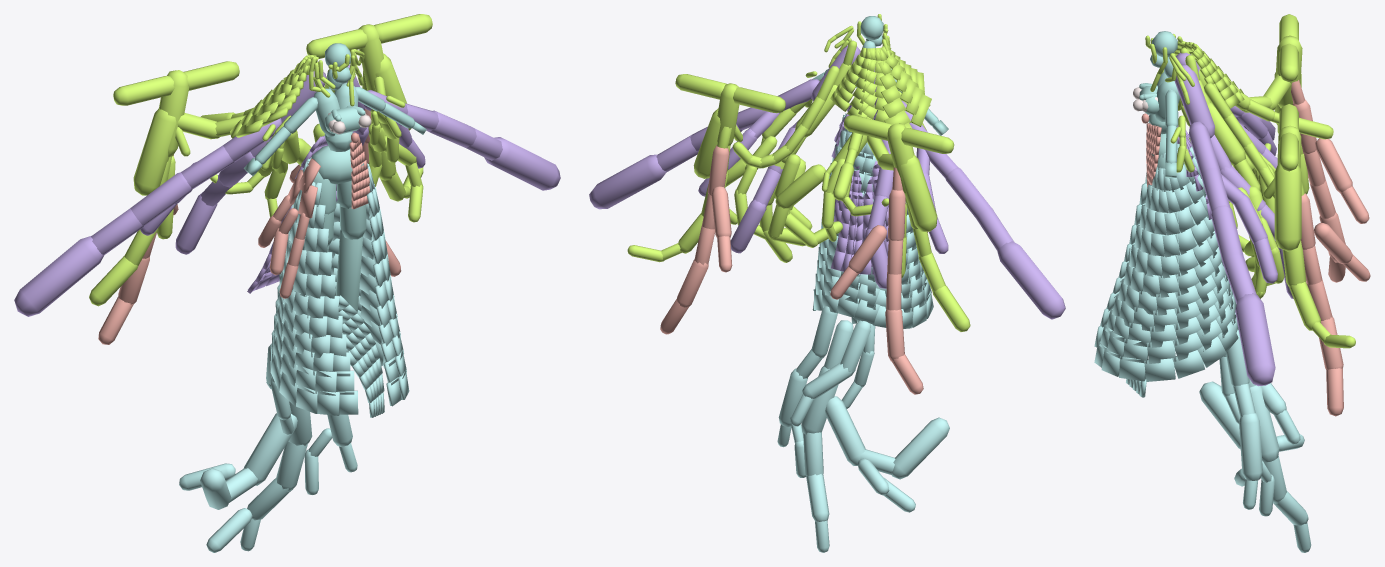
The model's file is HoH.fbx_RigidBodyWorld.fbx.
3 views of the same model, side by side, from view 1: azimuth 30°, elevation 25°; view 2: azimuth 150°, elevation 25°; view 3: azimuth 270°, elevation 25° (orthographic). The views are drawn at different scales.
Parts seen in each view (by area): view 1: 03G_Bone_C2_LV2_RT_05, 03G_Bone_C2_LingDang_R_RT_01, 033_Bone_C2_LV2_LT_PiaoDai_05, 09H_Bone_C2_LV2_Skirt_B_06_R_01, 03E_Bone_C2_LV2_RT_03, 00G_左ひざ, 03H_Bone_C2_ChiBang_RR_01, 03N_Bone_C2_LV2_RD_04, 03F_Bone_C2_LV2_RT_04, 031_Dummy_C2_LingDang_R_Root, 00O_下半身, 040_Bone_C2_ChiBang_LL_01 (+18 smaller); view 2: 03G_Bone_C2_LV2_RT_05, 033_Bone_C2_LV2_LT_PiaoDai_05, 03G_Bone_C2_LingDang_R_RT_01, 09J_Bone_C2_LV2_Skirt_B_06_R_03, 09H_Bone_C2_LV2_Skirt_B_06_R_01, 01U_Bone_C2_Hair_BR_04_L01_01, 03E_Bone_C2_LV2_RT_03, 03A_Bone_C2_LV2_LD_PiaoDai_04, 03Q_Bone_C2_LingDang_L_LT_01, 03H_Bone_C2_ChiBang_RR_01, 041_Bone_C2_ChiBang_LR_01, 09D_Bone_C2_LV2_Skirt_B_06 (+25 smaller); view 3: 033_Bone_C2_LV2_LT_PiaoDai_05, 03Q_Bone_C2_LingDang_L_LT_01, 098_Bone_C2_LV2_Skirt_B_04_L_03, 09J_Bone_C2_LV2_Skirt_B_06_R_03, 02Y_Bone_C2_LV2_L_PiaoDai_Root, 031_Bone_C2_LV2_LT_PiaoDai_03, 09D_Bone_C2_LV2_Skirt_B_06, 03E_Bone_C2_LingDang_R_B_02_01, 02Z_Bone_C2_LV2_LT_PiaoDai_01, 032_Bone_C2_LV2_LT_PiaoDai_04, 01Z_Bone_C2_Hair_BL_03, 03N_Bone_C2_LingDang_L_LD_03 (+69 smaller).
Part boxes in pixels (<box>): 03G_Bone_C2_LV2_RT_05: <box>14,235,103,316</box>; 03G_Bone_C2_LingDang_R_RT_01: <box>133,108,176,195</box>; 033_Bone_C2_LV2_LT_PiaoDai_05: <box>484,137,560,190</box>; 09H_Bone_C2_LV2_Skirt_B_06_R_01: <box>243,413,297,485</box>; 03E_Bone_C2_LV2_RT_03: <box>130,172,192,226</box>; 00G_左ひざ: <box>337,233,363,307</box>; 03H_Bone_C2_ChiBang_RR_01: <box>113,76,174,105</box>; 03N_Bone_C2_LV2_RD_04: <box>175,192,217,254</box>; 03F_Bone_C2_LV2_RT_04: <box>91,208,143,255</box>; 031_Dummy_C2_LingDang_R_Root: <box>159,70,188,156</box>; 00O_下半身: <box>311,145,363,184</box>; 040_Bone_C2_ChiBang_LL_01: <box>374,14,432,43</box>; 03G_Bone_C2_LV2_RT_05: <box>997,241,1065,319</box>; 033_Bone_C2_LV2_LT_PiaoDai_05: <box>589,154,666,209</box>; 03G_Bone_C2_LingDang_R_RT_01: <box>900,154,937,231</box>; 09J_Bone_C2_LV2_Skirt_B_06_R_03: <box>891,417,949,479</box>; 09H_Bone_C2_LV2_Skirt_B_06_R_01: <box>825,396,865,465</box>; 01U_Bone_C2_Hair_BR_04_L01_01: <box>775,164,825,208</box>; 03E_Bone_C2_LV2_RT_03: <box>945,167,992,218</box>; 03A_Bone_C2_LV2_LD_PiaoDai_04: <box>730,199,766,253</box>; 03Q_Bone_C2_LingDang_L_LT_01: <box>693,108,720,178</box>; 03H_Bone_C2_ChiBang_RR_01: <box>901,128,954,153</box>; 041_Bone_C2_ChiBang_LR_01: <box>733,87,785,113</box>; 09D_Bone_C2_LV2_Skirt_B_06: <box>801,366,838,434</box>; 033_Bone_C2_LV2_LT_PiaoDai_05: <box>1235,293,1275,386</box>; 03Q_Bone_C2_LingDang_L_LT_01: <box>1274,162,1301,251</box>; 098_Bone_C2_LV2_Skirt_B_04_L_03: <box>1239,413,1262,480</box>; 09J_Bone_C2_LV2_Skirt_B_06_R_03: <box>1199,381,1240,449</box>; 02Y_Bone_C2_LV2_L_PiaoDai_Root: <box>1174,64,1214,138</box>; 031_Bone_C2_LV2_LT_PiaoDai_03: <box>1211,205,1243,263</box>; 09D_Bone_C2_LV2_Skirt_B_06: <box>1250,385,1279,462</box>; 03E_Bone_C2_LingDang_R_B_02_01: <box>1315,138,1352,193</box>; 02Z_Bone_C2_LV2_LT_PiaoDai_01: <box>1188,121,1219,175</box>; 032_Bone_C2_LV2_LT_PiaoDai_04: <box>1223,254,1256,303</box>; 01Z_Bone_C2_Hair_BL_03: <box>1207,102,1245,165</box>; 03N_Bone_C2_LingDang_L_LD_03: <box>1288,281,1320,330</box>.
Size of the model in its own units: 314 by 146 by 307.
